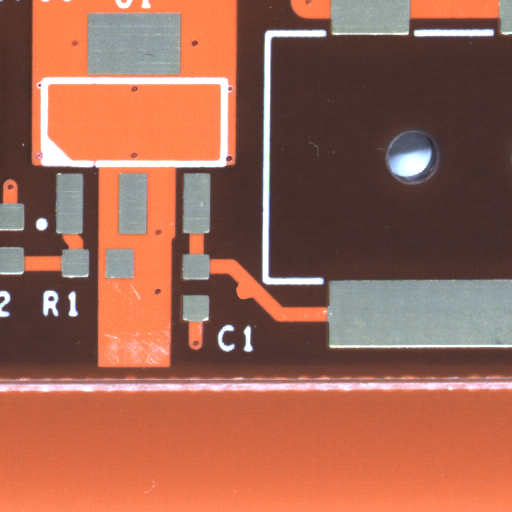Spur: (243, 291, 260, 308)
